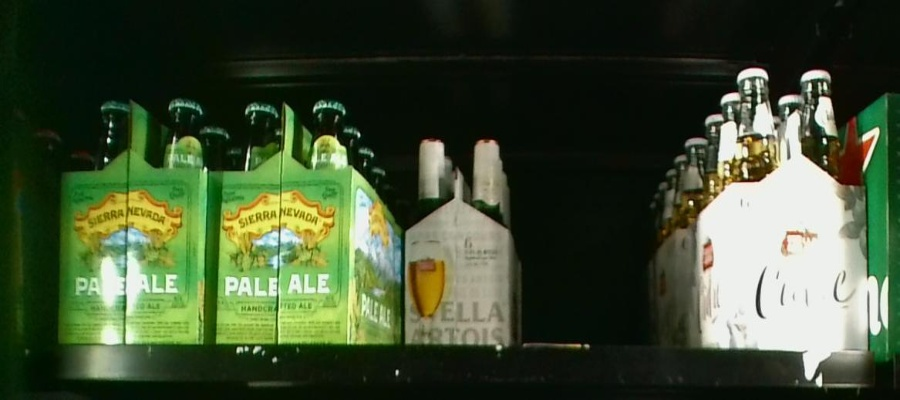bottle: (214, 97, 405, 341), (58, 100, 211, 350), (731, 71, 866, 354), (405, 131, 512, 344)
